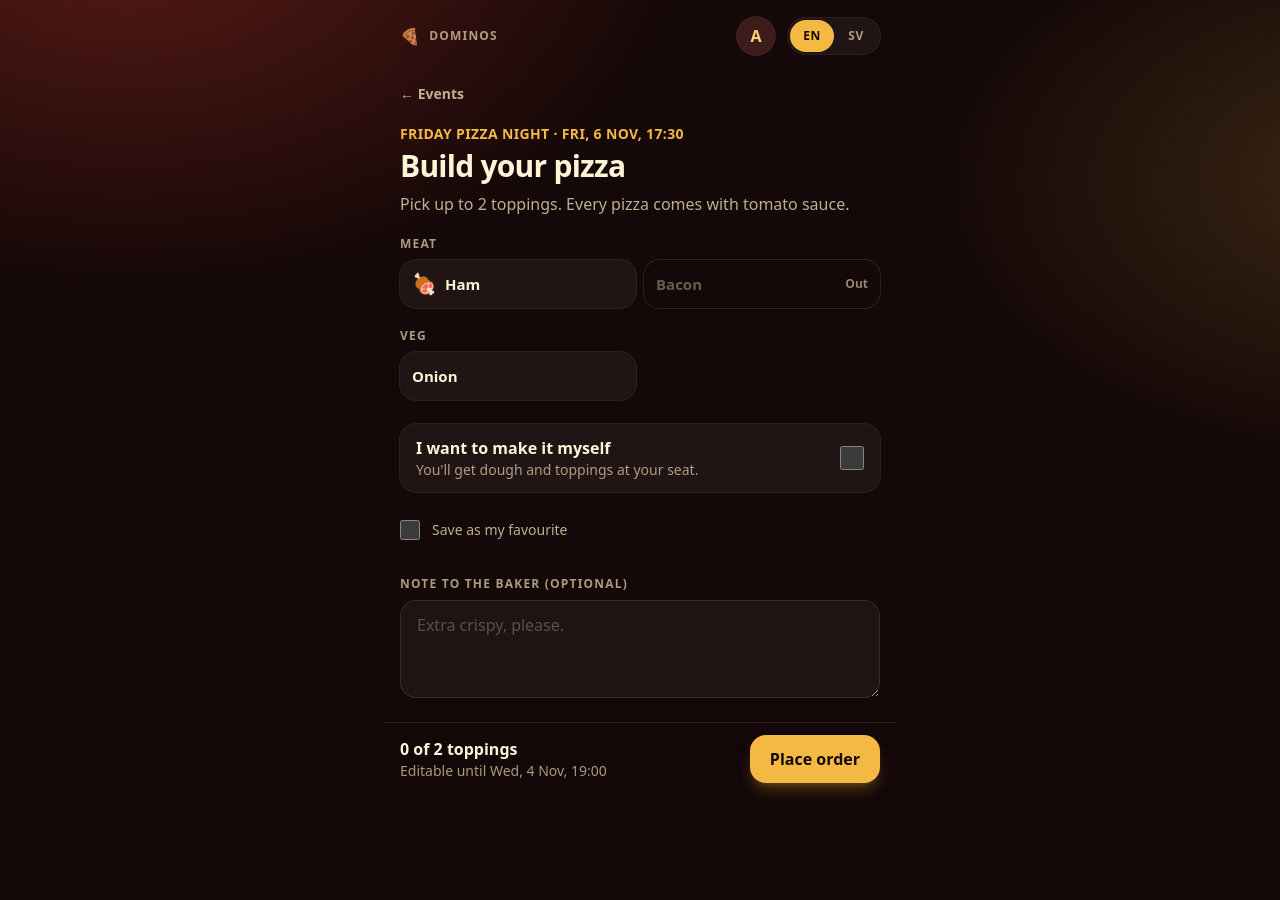
Test: building a pizza › says so when orders closed before the order went through
This screenshot has width=1280, height=900.
Click the button "🍖 Ham": (518, 284) [400, 260, 636, 308]
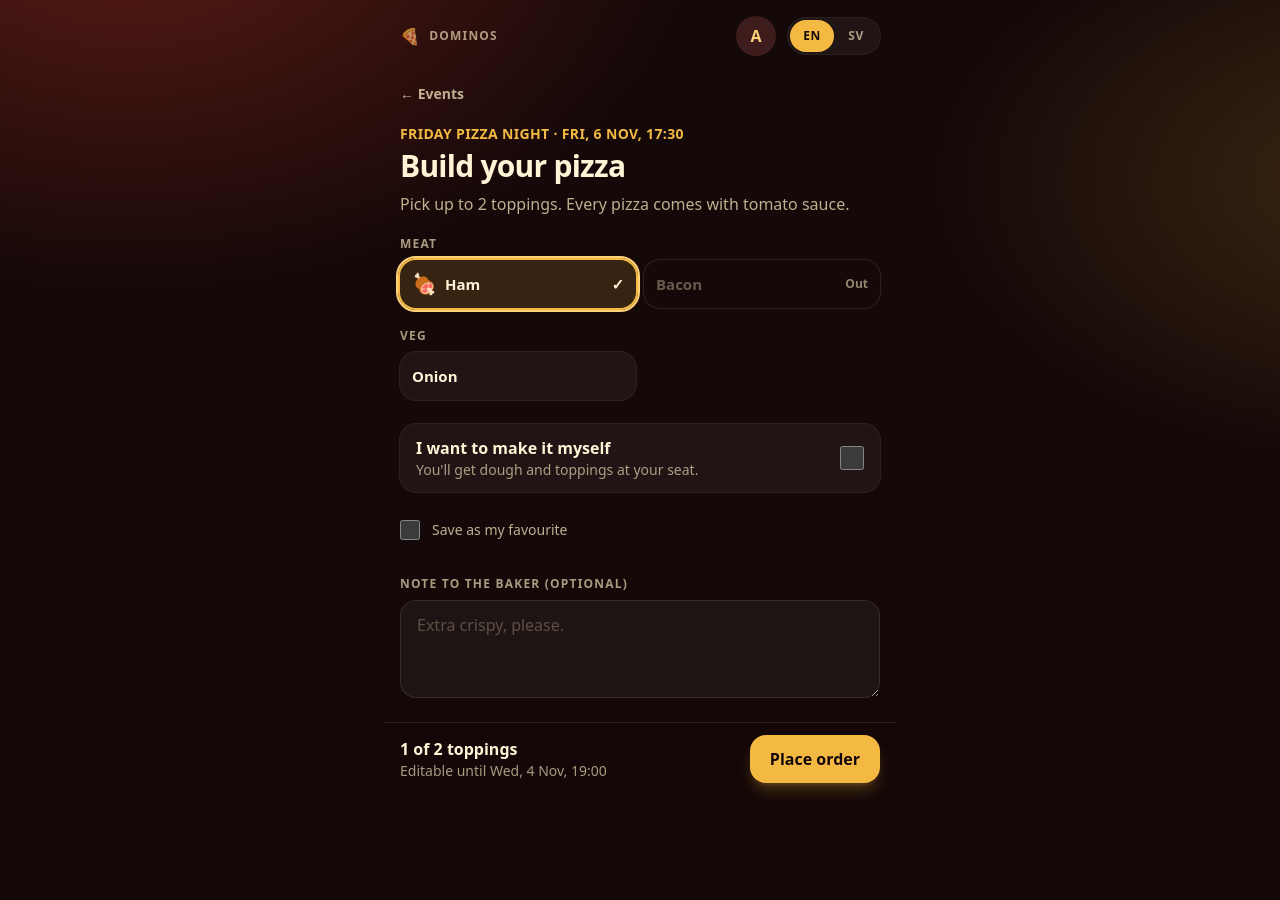
Click the button "Place order": (815, 759) [750, 735, 880, 783]
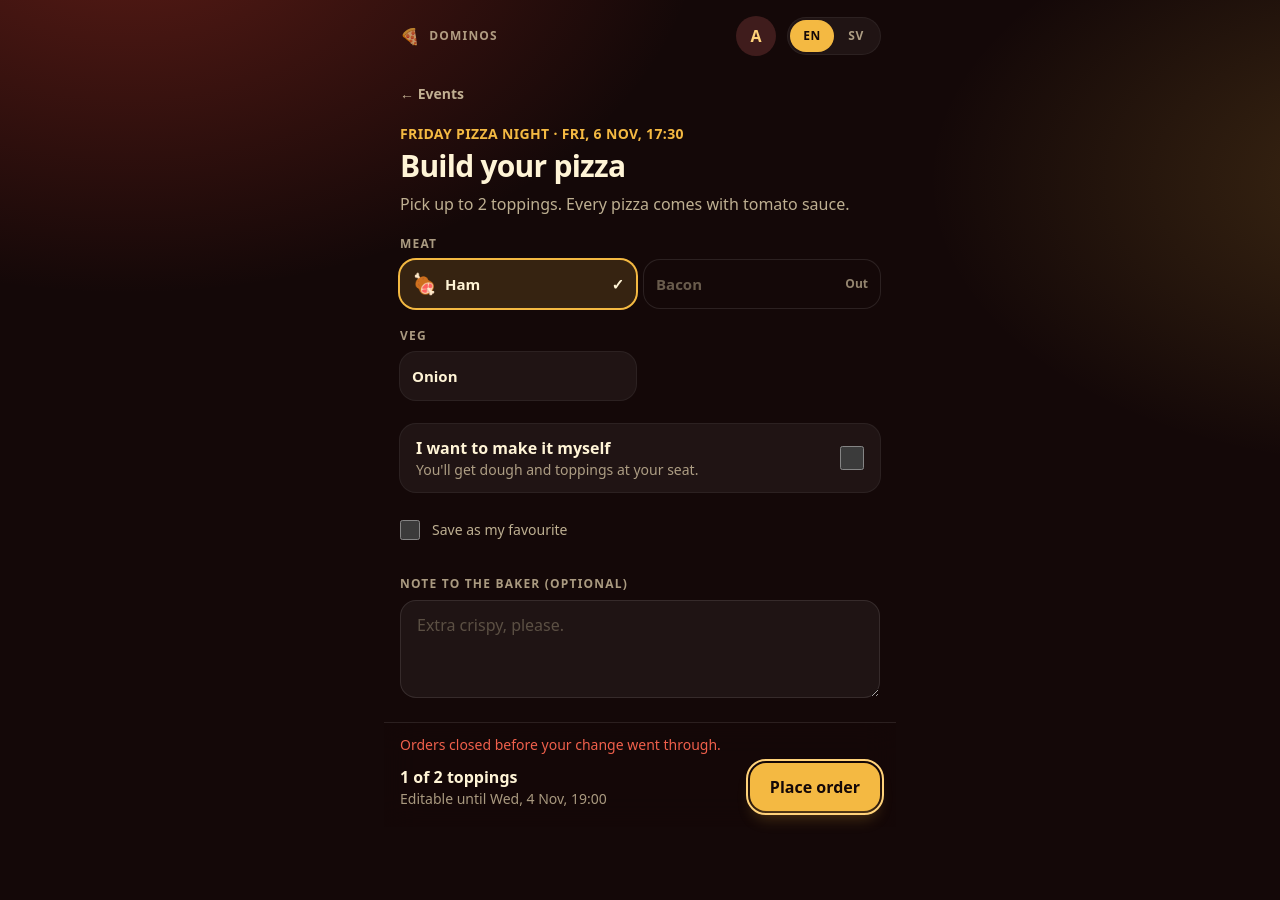
Expected: the message shows "Orders closed before", [400, 735, 721, 754]
